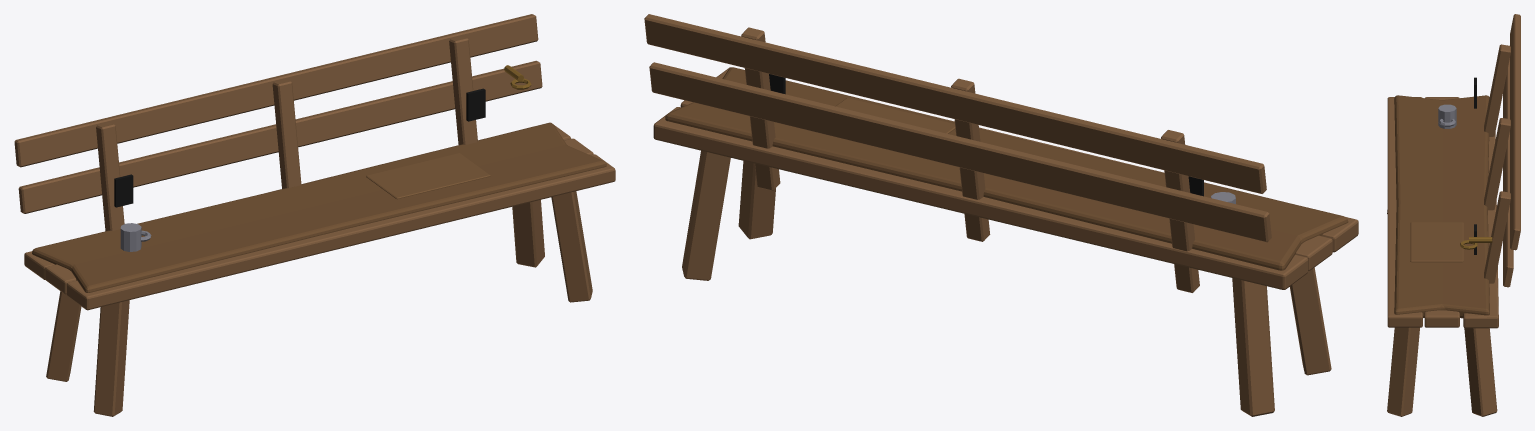
Rendered from SM_Bench_TavernSettle_02.fbx.
The picture shows the model from 3 angles, left to right: view 1: azimuth 30°, elevation 25°; view 2: azimuth 150°, elevation 25°; view 3: azimuth 270°, elevation 25°; orthographic projection. The views are drawn at different scales.
Visible parts, largest first — view 1: SM_Bench_TavernSettle_02_Cushion, SM_Bench_TavernSettle_02_BackRail1, SM_Bench_TavernSettle_02_BackRail0, SM_Bench_TavernSettle_02_SeatPlank0, SM_Bench_TavernSettle_02_LegLF, SM_Bench_TavernSettle_02_CushionPatch, SM_Bench_TavernSettle_02_LegRF, SM_Bench_TavernSettle_02_BackPost1, SM_Bench_TavernSettle_02_LegLB, SM_Bench_TavernSettle_02_BackPost0, SM_Bench_TavernSettle_02_BackPost2, SM_Bench_TavernSettle_02_LegRB (+5 smaller); view 2: SM_Bench_TavernSettle_02_Cushion, SM_Bench_TavernSettle_02_BackRail0, SM_Bench_TavernSettle_02_BackRail1, SM_Bench_TavernSettle_02_SeatPlank2, SM_Bench_TavernSettle_02_LegLB, SM_Bench_TavernSettle_02_LegRB, SM_Bench_TavernSettle_02_LegLF, SM_Bench_TavernSettle_02_LegRF, SM_Bench_TavernSettle_02_BackPost0, SM_Bench_TavernSettle_02_BackPost1, SM_Bench_TavernSettle_02_BackPost2, SM_Bench_TavernSettle_02_CushionPatch (+2 smaller); view 3: SM_Bench_TavernSettle_02_Cushion, SM_Bench_TavernSettle_02_BackRail1, SM_Bench_TavernSettle_02_SeatPlank0, SM_Bench_TavernSettle_02_LegRF, SM_Bench_TavernSettle_02_LegRB, SM_Bench_TavernSettle_02_CushionPatch, SM_Bench_TavernSettle_02_SeatPlank2, SM_Bench_TavernSettle_02_BackRail0, SM_Bench_TavernSettle_02_BackPost1, SM_Bench_TavernSettle_02_BackPost0, SM_Bench_TavernSettle_02_BackPost2, SM_Bench_TavernSettle_02_SeatPlank1 (+2 smaller).
Boxes of the visible parts, <box> form: SM_Bench_TavernSettle_02_Cushion: <box>32,122,606,292</box>; SM_Bench_TavernSettle_02_BackRail1: <box>14,14,538,167</box>; SM_Bench_TavernSettle_02_BackRail0: <box>18,60,542,213</box>; SM_Bench_TavernSettle_02_SeatPlank0: <box>66,154,615,310</box>; SM_Bench_TavernSettle_02_LegLF: <box>93,300,129,416</box>; SM_Bench_TavernSettle_02_CushionPatch: <box>366,153,490,199</box>; SM_Bench_TavernSettle_02_LegRF: <box>551,191,592,302</box>; SM_Bench_TavernSettle_02_BackPost1: <box>272,79,301,188</box>; SM_Bench_TavernSettle_02_LegLB: <box>46,291,81,381</box>; SM_Bench_TavernSettle_02_BackPost0: <box>96,122,124,231</box>; SM_Bench_TavernSettle_02_BackPost2: <box>449,36,477,144</box>; SM_Bench_TavernSettle_02_LegRB: <box>512,200,544,267</box>; SM_Bench_TavernSettle_02_Cushion: <box>665,67,1348,270</box>; SM_Bench_TavernSettle_02_BackRail0: <box>649,62,1271,242</box>; SM_Bench_TavernSettle_02_BackRail1: <box>644,14,1266,193</box>; SM_Bench_TavernSettle_02_SeatPlank2: <box>653,107,1308,289</box>; SM_Bench_TavernSettle_02_LegLB: <box>1232,278,1274,416</box>; SM_Bench_TavernSettle_02_LegRB: <box>682,150,730,280</box>; SM_Bench_TavernSettle_02_LegLF: <box>1290,267,1331,375</box>; SM_Bench_TavernSettle_02_LegRF: <box>738,161,775,239</box>; SM_Bench_TavernSettle_02_BackPost0: <box>1161,130,1199,292</box>; SM_Bench_TavernSettle_02_BackPost1: <box>951,78,990,241</box>; SM_Bench_TavernSettle_02_BackPost2: <box>741,27,780,190</box>; SM_Bench_TavernSettle_02_CushionPatch: <box>835,98,955,133</box>; SM_Bench_TavernSettle_02_Cushion: <box>1394,95,1489,318</box>; SM_Bench_TavernSettle_02_BackRail1: <box>1510,14,1520,250</box>; SM_Bench_TavernSettle_02_SeatPlank0: <box>1387,97,1422,327</box>; SM_Bench_TavernSettle_02_LegRF: <box>1387,327,1419,416</box>; SM_Bench_TavernSettle_02_LegRB: <box>1464,328,1497,416</box>; SM_Bench_TavernSettle_02_CushionPatch: <box>1410,222,1463,262</box>; SM_Bench_TavernSettle_02_SeatPlank2: <box>1463,132,1498,328</box>; SM_Bench_TavernSettle_02_BackRail0: <box>1503,58,1513,287</box>; SM_Bench_TavernSettle_02_BackPost1: <box>1484,118,1510,210</box>; SM_Bench_TavernSettle_02_BackPost0: <box>1484,44,1510,136</box>; SM_Bench_TavernSettle_02_BackPost2: <box>1484,191,1510,283</box>; SM_Bench_TavernSettle_02_SeatPlank1: <box>1424,97,1459,327</box>.
Bounding box in the file's own units: 2 × 0.8298 × 0.5139.
